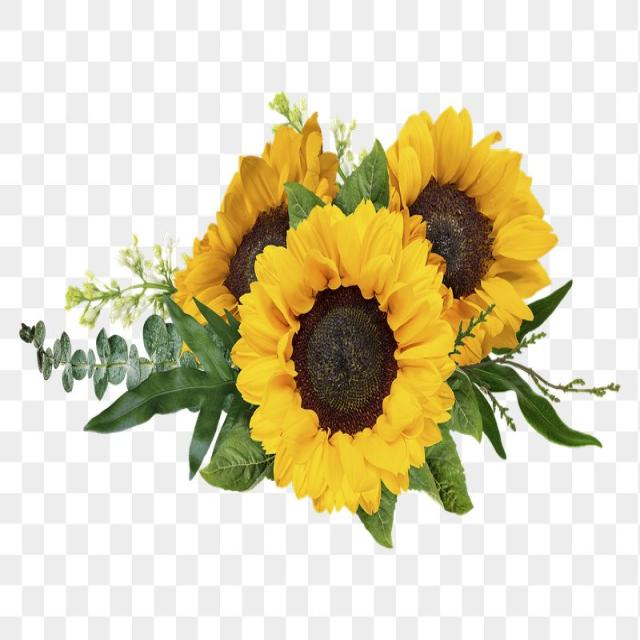sunflower: (229, 196, 456, 516), (383, 104, 558, 367), (170, 111, 340, 354)
